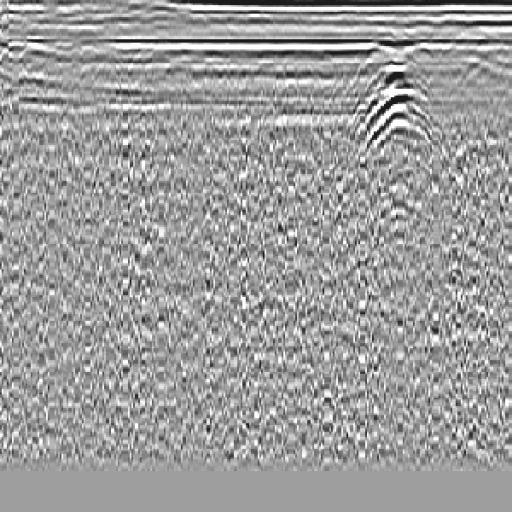metalic: (345, 63, 448, 161)
